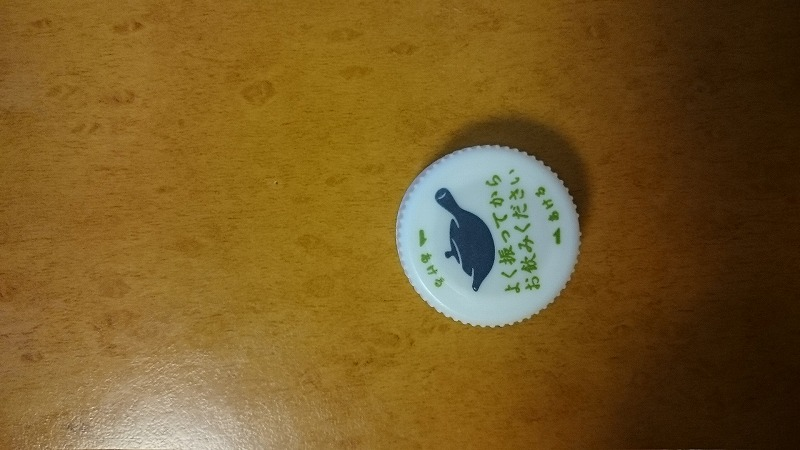A: (390, 135, 587, 333)
